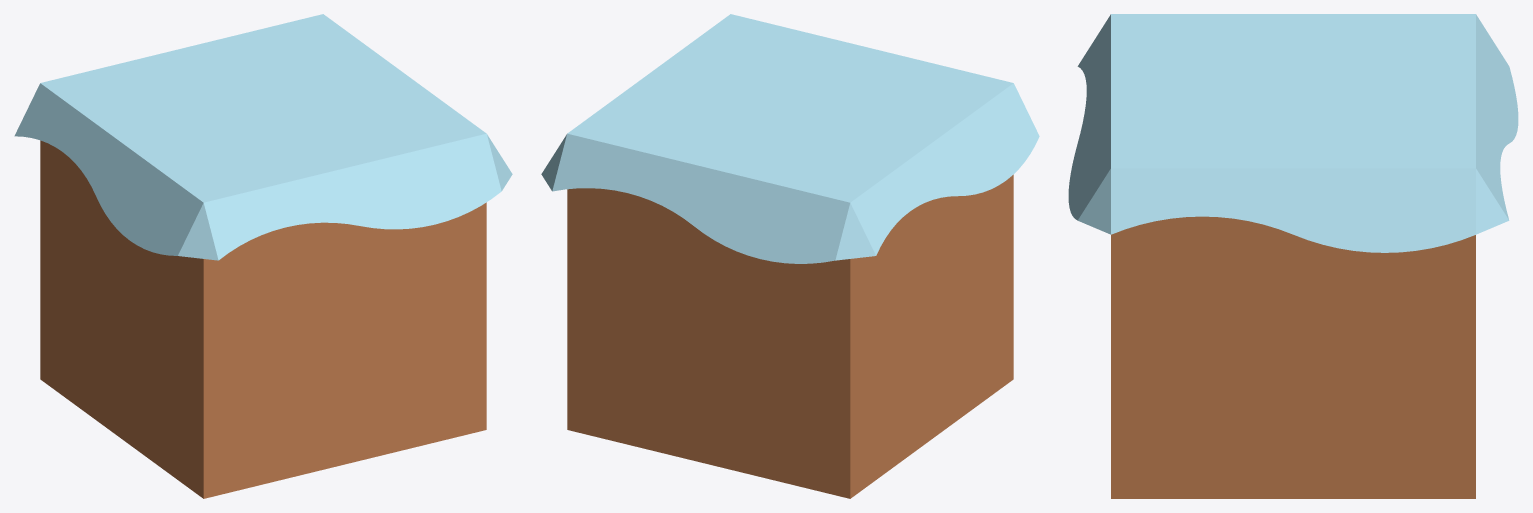
File: blockSnow.glb
The picture shows the model from 3 angles, left to right: view 1: azimuth 30°, elevation 25°; view 2: azimuth 150°, elevation 25°; view 3: azimuth 270°, elevation 25°; orthographic projection. The views are drawn at different scales.
Parts seen in each view (by area): view 1: blockSnow; view 2: blockSnow; view 3: blockSnow.
Part boxes in pixels (<box>): blockSnow: <box>14,14,512,498</box>; blockSnow: <box>541,14,1039,498</box>; blockSnow: <box>1068,14,1518,498</box>.
Bounding box in the file's own units: 1.23 × 1 × 1.23.
